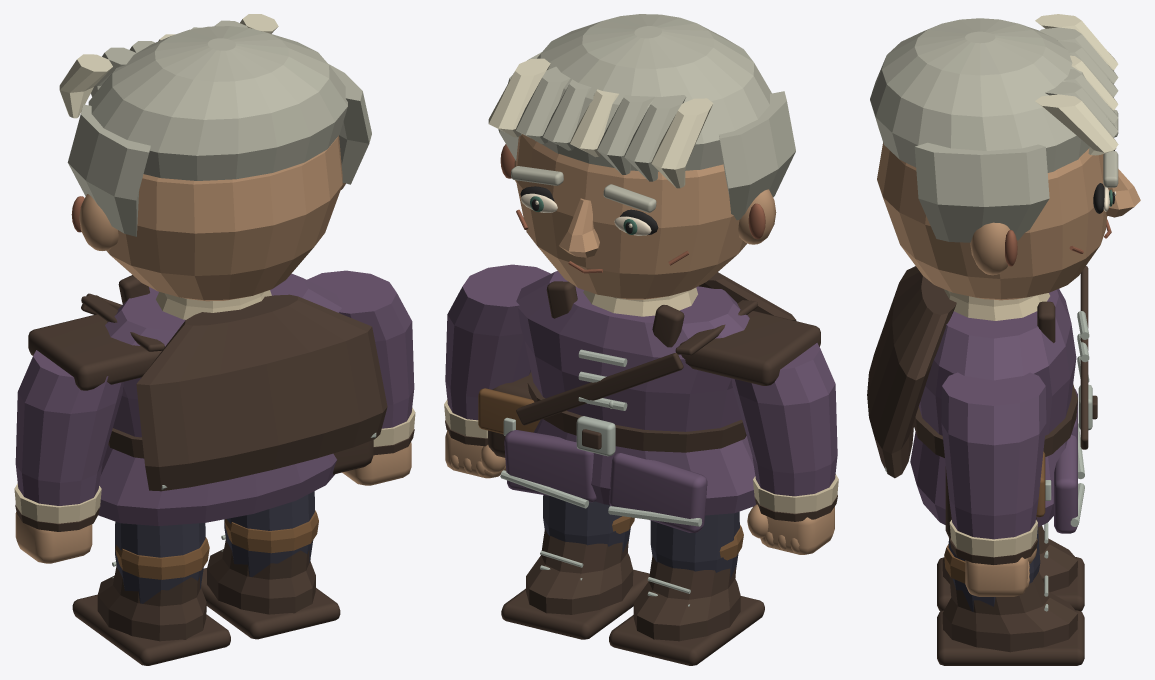
Rendered from arden.glb.
The picture shows the model from 3 angles, left to right: view 1: azimuth 30°, elevation 25°; view 2: azimuth 150°, elevation 25°; view 3: azimuth 270°, elevation 25°; orthographic projection.
Parts seen in each view (by area): view 1: arden_back_mantle, arden_hair_crown, arden_face, arden_tunic_body, arden_sleeve_-1, arden_sleeve_1, arden_temple_-1, arden_shoulder_tab, arden_boot_1, arden_boot_-1, arden_trouser_-1, arden_sole_-1 (+17 smaller); view 2: arden_tunic_body, arden_face, arden_hair_crown, arden_sleeve_-1, arden_sleeve_1, arden_boot_-1, arden_boot_1, arden_shoulder_tab, arden_temple_-1, arden_split_tail_-1, arden_split_tail_1, arden_trouser_-1 (+31 smaller); view 3: arden_hair_crown, arden_face, arden_sleeve_1, arden_tunic_body, arden_temple_1, arden_back_mantle, arden_boot_1, arden_sole_1, arden_cropped_wave_6, arden_palm_1, arden_split_tail_1, arden_collar_linen (+18 smaller).
Part boxes in pixels (x1,y1,x2,y2): arden_back_mantle: (136,294,387,491); arden_hair_crown: (88,26,347,180); arden_face: (106,135,342,301); arden_tunic_body: (98,273,341,525); arden_sleeve_-1: (15,350,123,505); arden_sleeve_1: (307,270,414,428); arden_temple_-1: (67,104,150,236); arden_shoulder_tab: (28,314,161,390); arden_boot_1: (207,539,315,614); arden_boot_-1: (97,566,206,641); arden_trouser_-1: (115,521,205,603); arden_sole_-1: (72,594,230,665); arden_tunic_body: (516,270,755,515); arden_face: (516,134,746,299); arden_hair_crown: (535,14,771,171); arden_sleeve_-1: (731,343,837,496); arden_sleeve_1: (445,264,550,420); arden_boot_-1: (633,555,740,641); arden_boot_1: (526,529,633,614); arden_shoulder_tab: (680,310,820,385); arden_temple_-1: (719,91,795,220); arden_split_tail_-1: (609,453,707,532); arden_split_tail_1: (504,430,596,502); arden_trouser_-1: (650,511,739,578); arden_hair_crown: (870,18,1089,172); arden_face: (877,142,1108,300); arden_sleeve_1: (941,372,1046,539); arden_tunic_body: (910,289,1076,527); arden_temple_1: (914,142,1049,242); arden_back_mantle: (867,266,956,478); arden_boot_1: (942,572,1077,652); arden_sole_1: (937,610,1084,665); arden_cropped_wave_6: (1035,94,1118,155); arden_palm_1: (965,557,1027,596); arden_split_tail_1: (1054,434,1077,533); arden_collar_linen: (943,289,1049,320).
Size of the model in its own units: 0.818 by 1.18 by 0.501.
